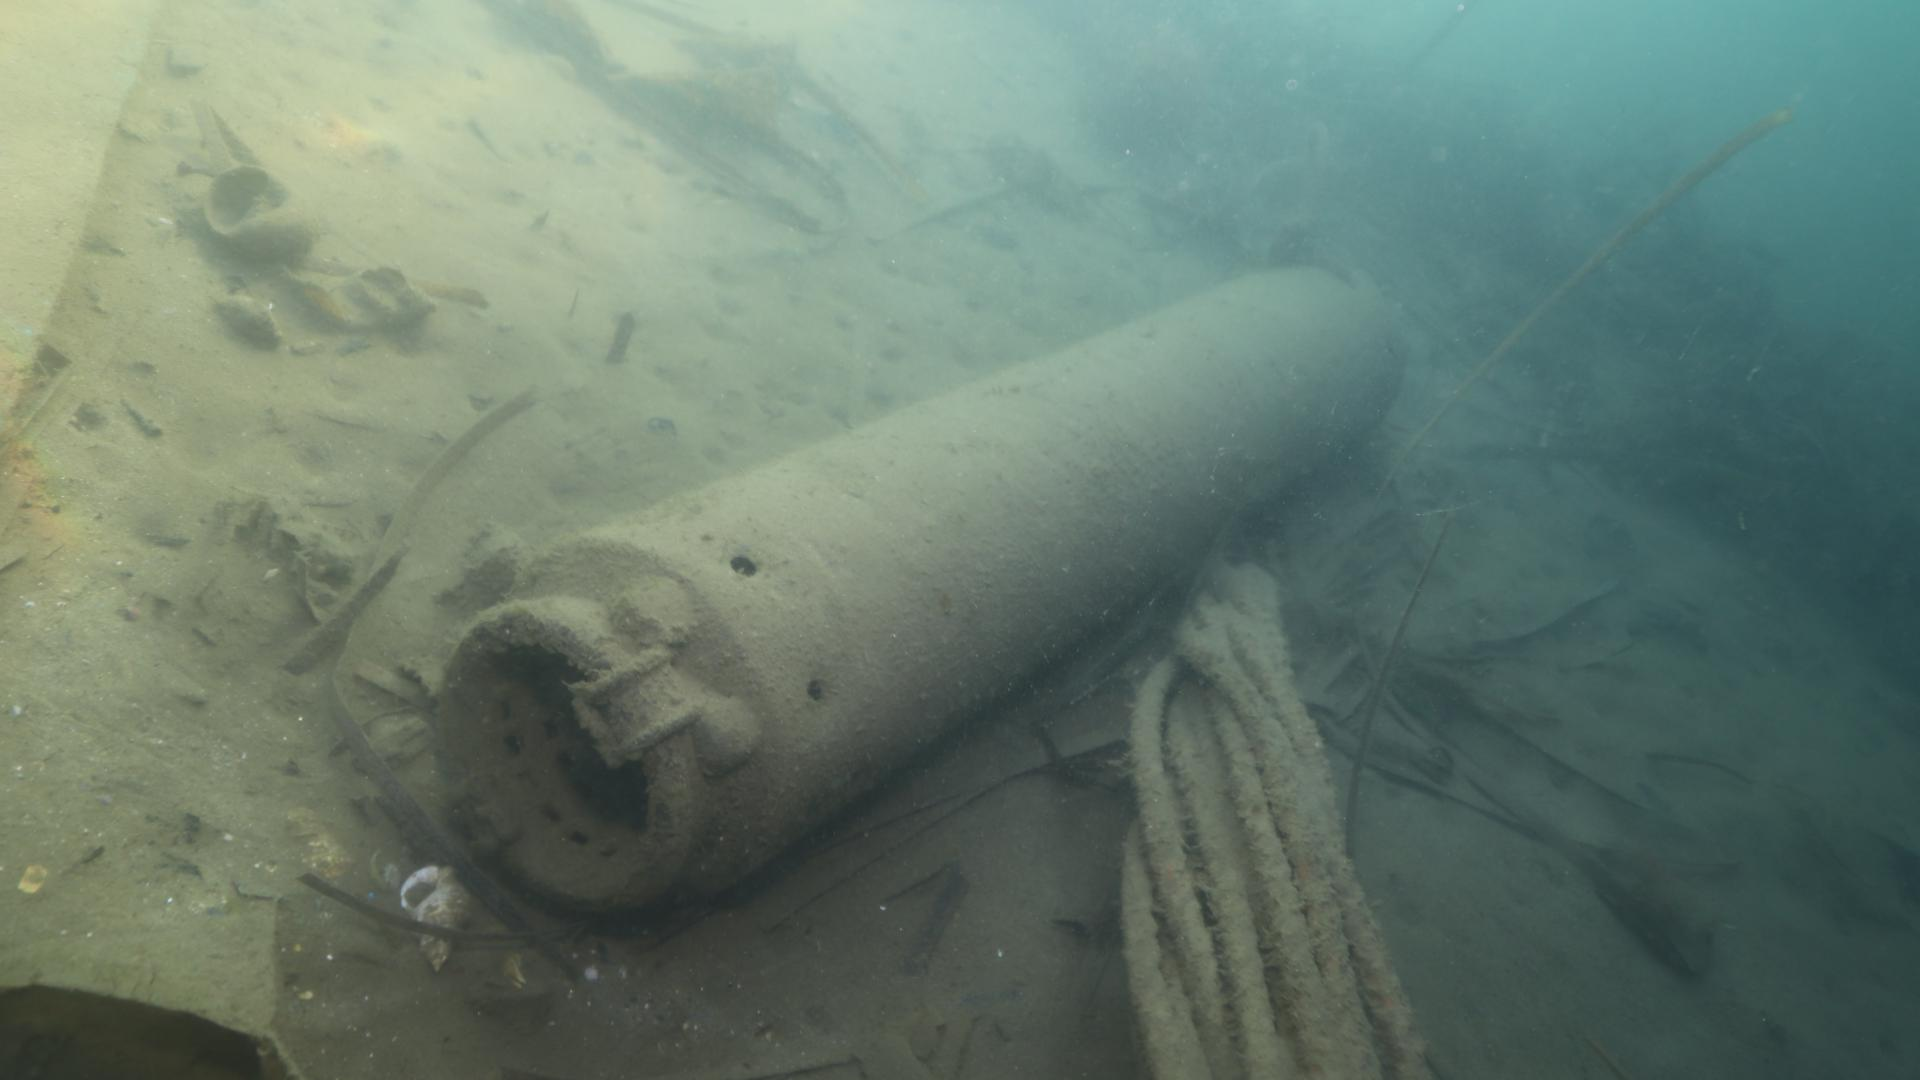bundle of ropes: (1117, 559, 1436, 1080)
eel fish trap: (429, 262, 1404, 916)
